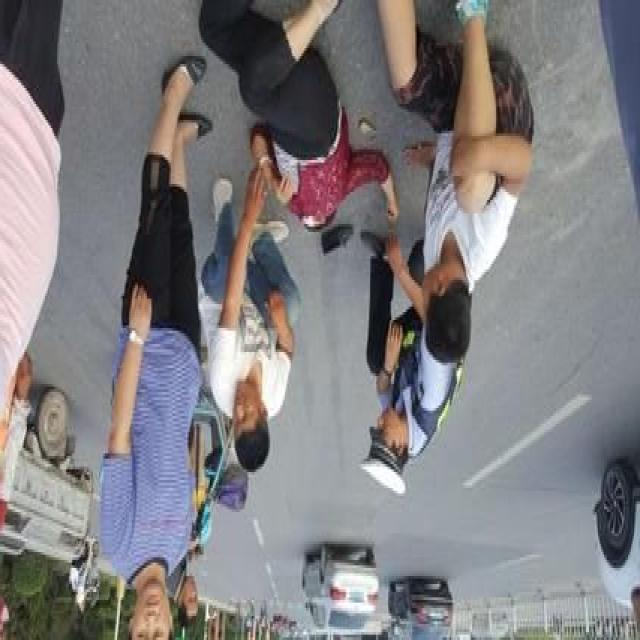nofight: (90, 53, 195, 640), (192, 1, 398, 262), (402, 13, 535, 345), (341, 234, 465, 494), (200, 181, 290, 470)
